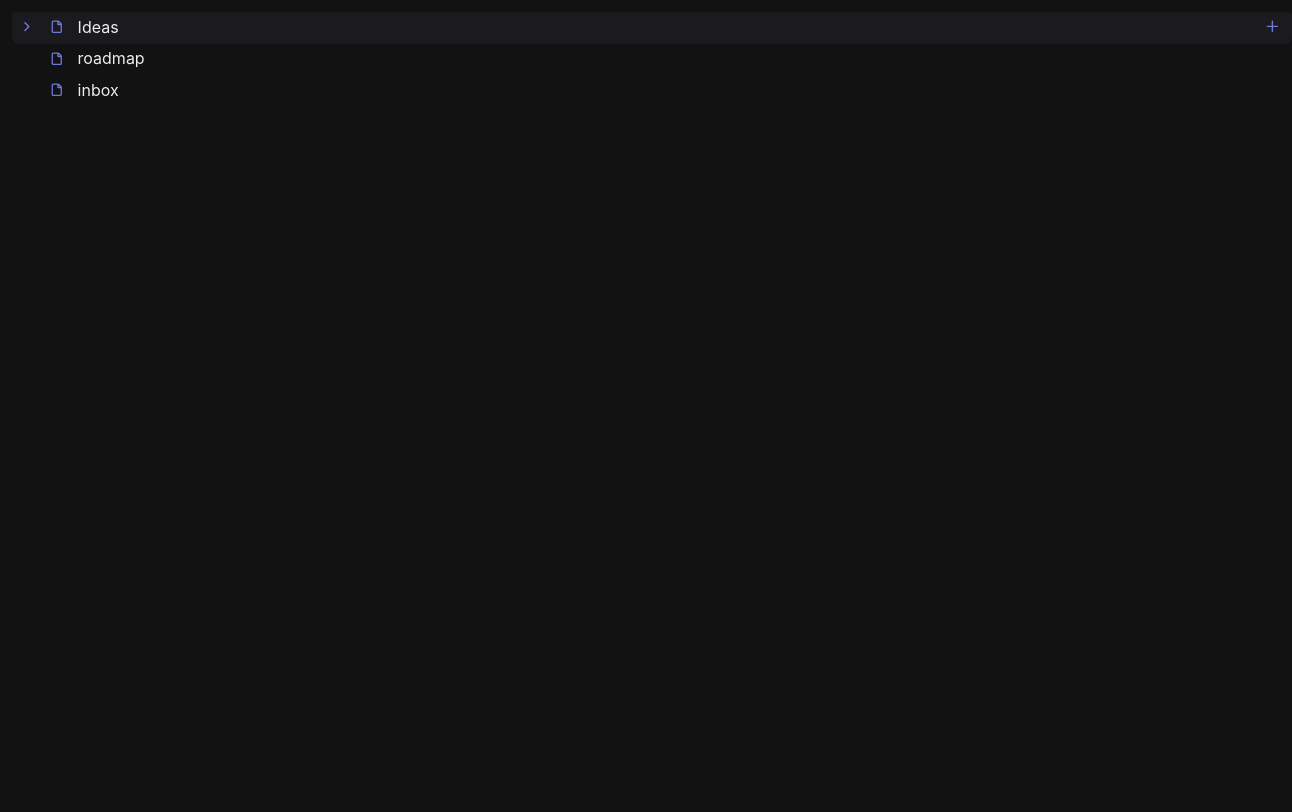
Test: a row context menu › closes on a click away
The width and height of the screenshot is (1292, 812).
Right-click the button "roadmap" at (111, 58), box [12,44,1257,73]
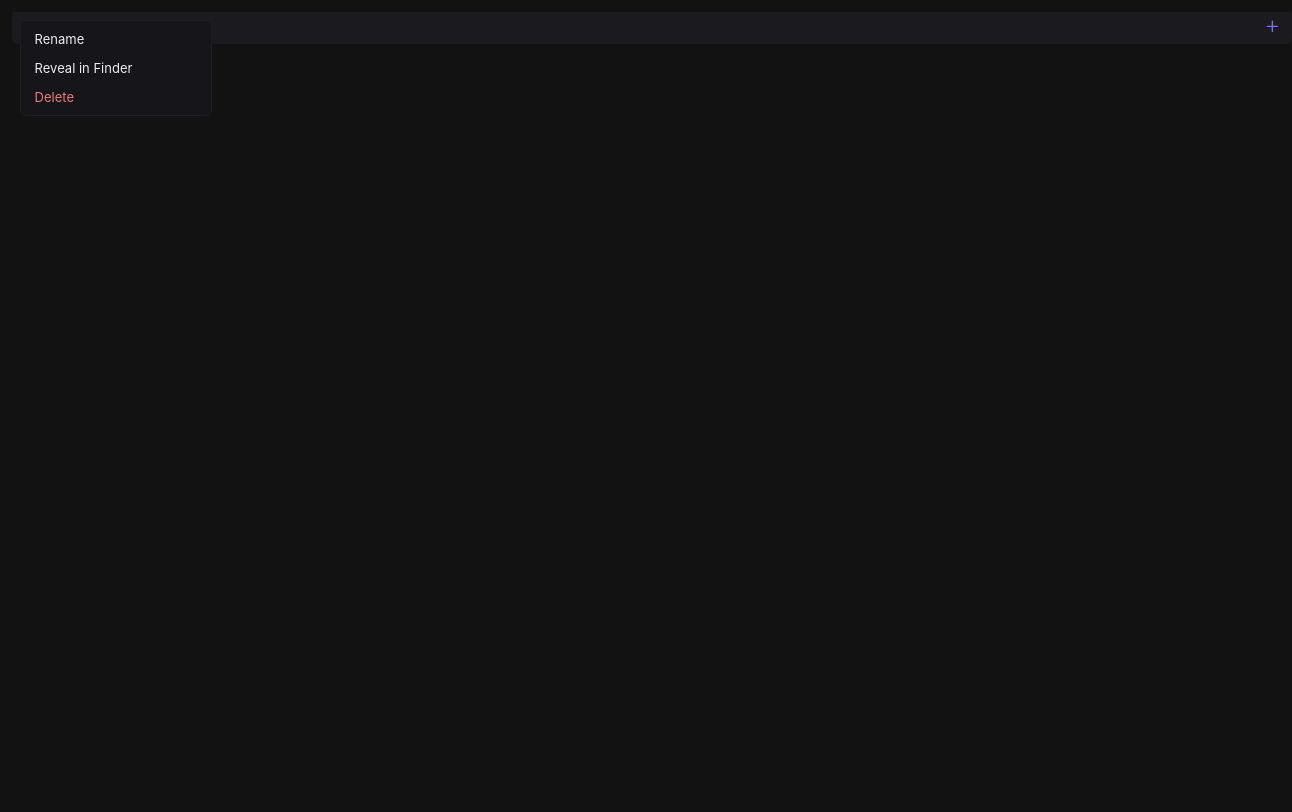
Press the mouse on the element showing "Ideas roadmap Rename Reveal in Finder Delete inbox" at (652, 412), box [12,12,1291,811]
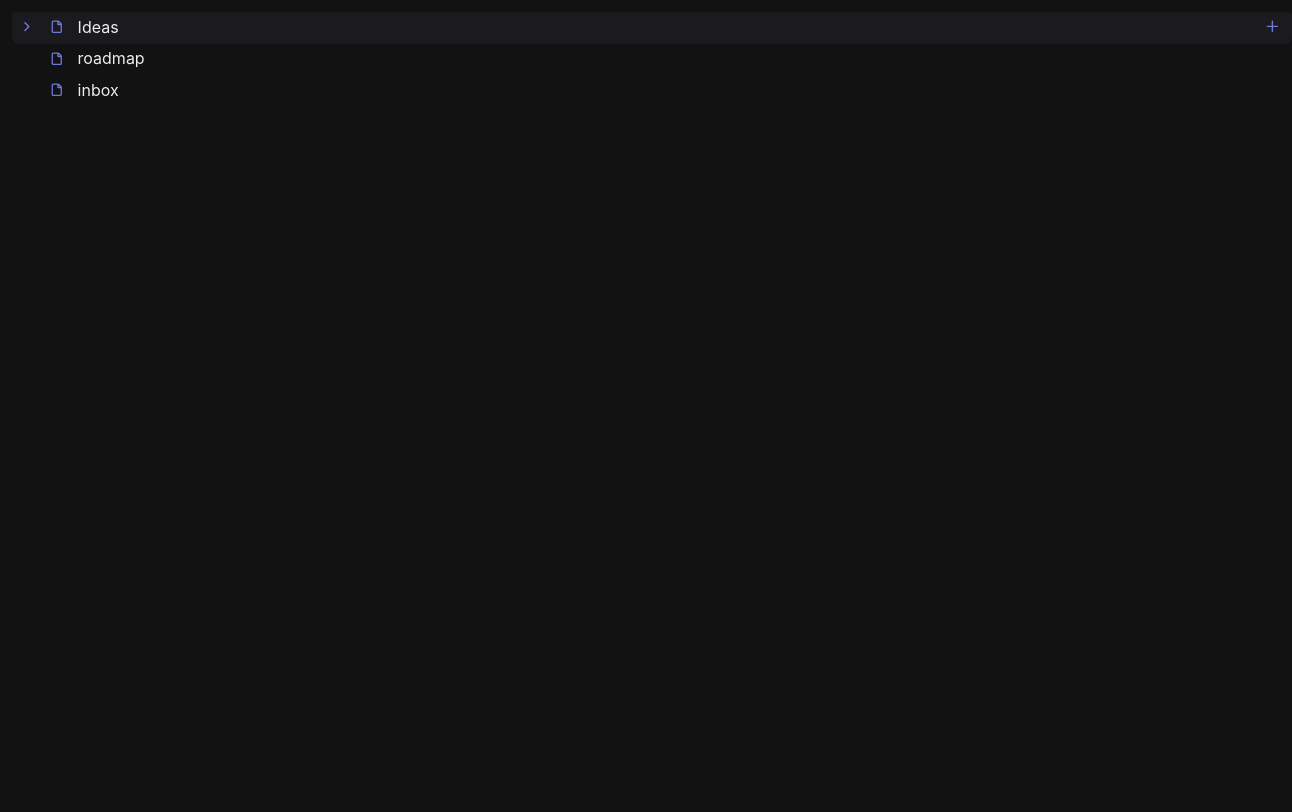
Expected: no elements with class "context-menu" are shown
